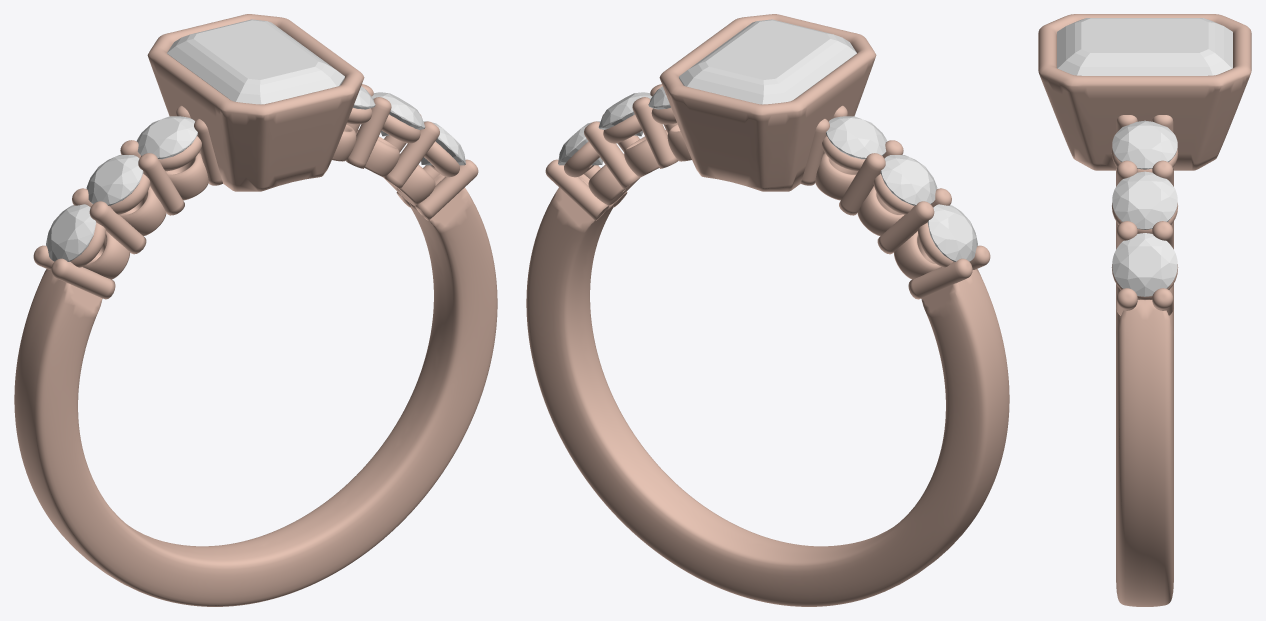
The model's file is diamond-emerald-rosegold-bezelset-straightband-7stone.glb.
3 renders of one model, left to right at view 1: azimuth 30°, elevation 25°; view 2: azimuth 150°, elevation 25°; view 3: azimuth 270°, elevation 25°, orthographic.
Parts seen in each view (by area): view 1: metal.001, stone.001, side.006, side.007, side.008, side.010; view 2: metal.001, stone.001, side.006, side.007, side.008, side.010, side.011; view 3: metal.001, stone.001, side.011, side.010, side.009.
Part boxes in pixels (<box>): metal.001: <box>14,14,497,606</box>; stone.001: <box>167,19,344,104</box>; side.006: <box>46,204,96,261</box>; side.007: <box>86,154,143,205</box>; side.008: <box>136,116,197,159</box>; side.010: <box>371,92,425,136</box>; metal.001: <box>526,14,1009,606</box>; stone.001: <box>679,19,856,104</box>; side.006: <box>927,204,977,261</box>; side.007: <box>880,154,937,205</box>; side.008: <box>826,116,887,159</box>; side.010: <box>598,92,652,136</box>; side.011: <box>558,121,602,165</box>; metal.001: <box>1038,14,1251,606</box>; stone.001: <box>1057,18,1232,75</box>; side.011: <box>1112,233,1177,296</box>; side.010: <box>1112,171,1177,229</box>; side.009: <box>1112,120,1177,169</box>.
Size of the model in its own units: 20.5 by 22.94 by 8.11.
